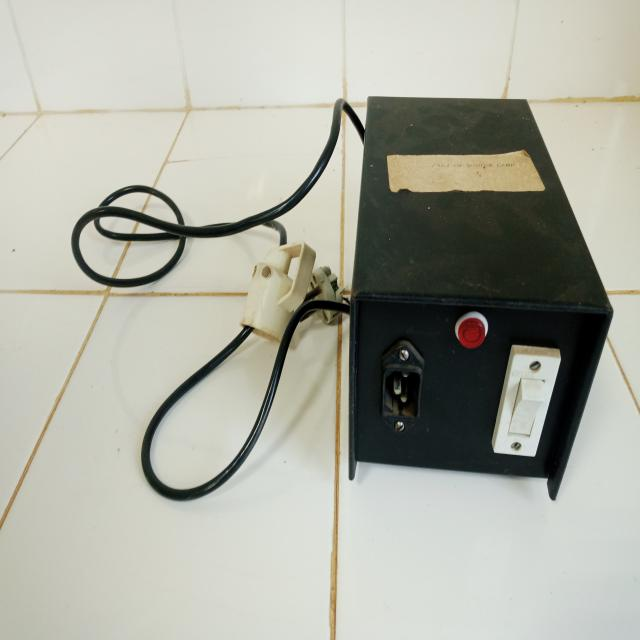Sodium Lamp Power Supply: (334, 74, 620, 512)
